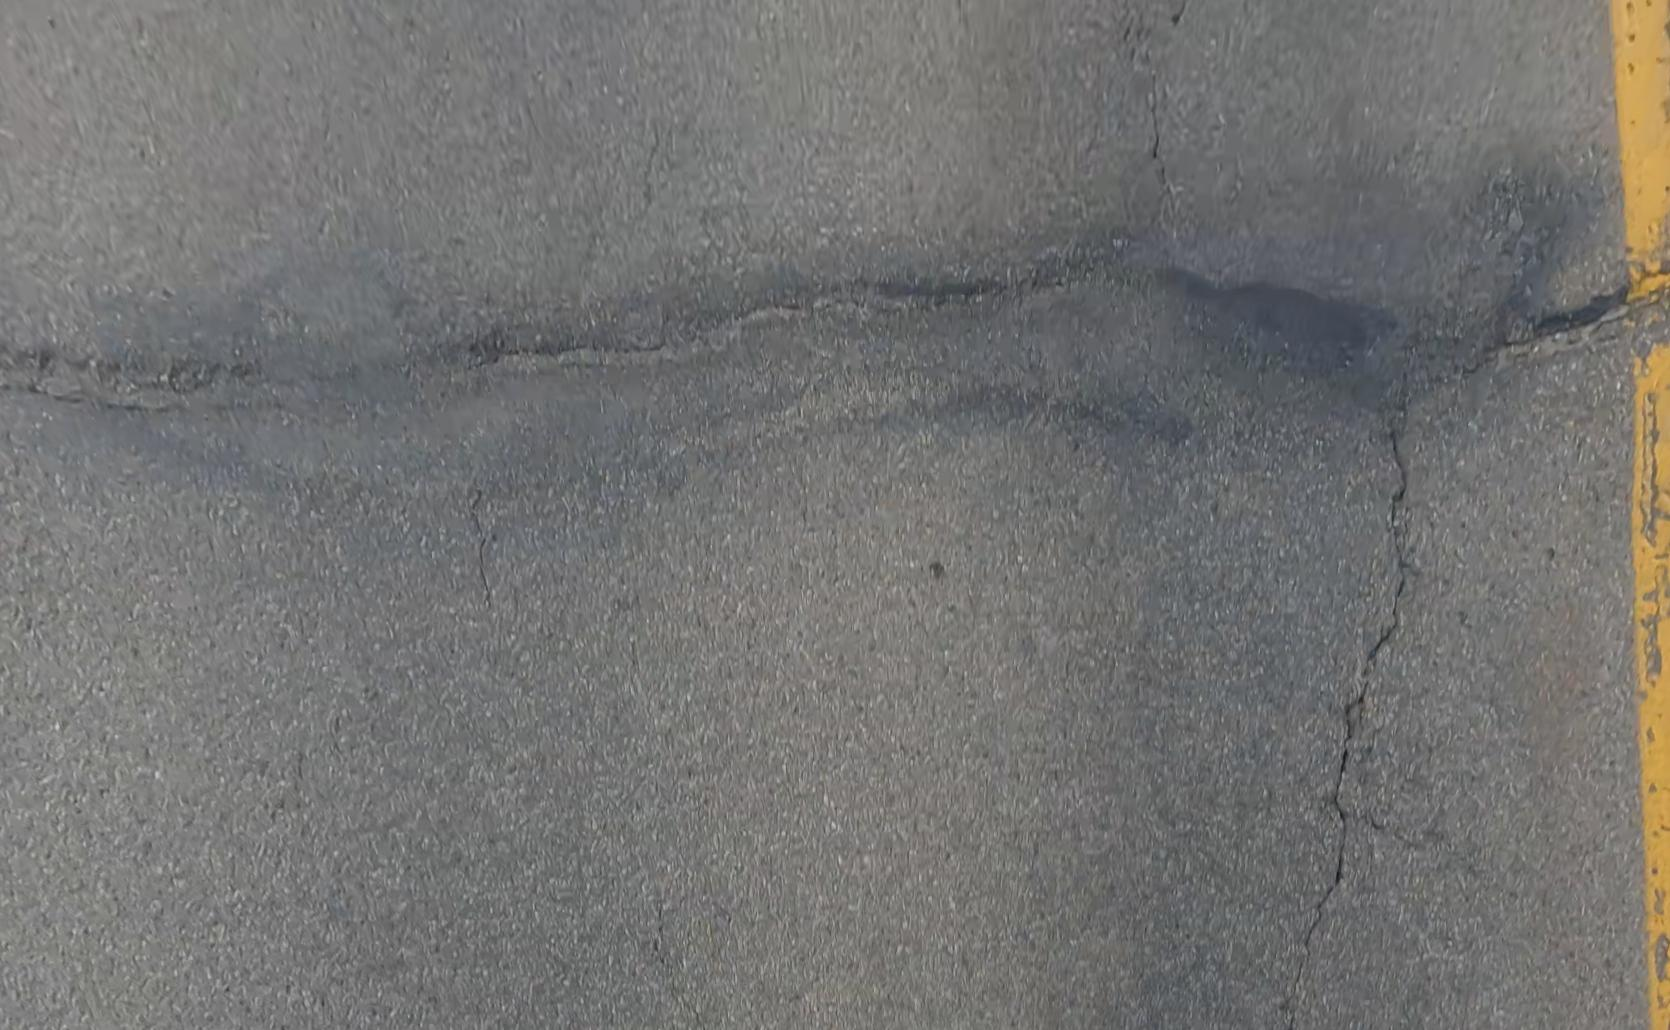pothole_patch_poor: (0, 159, 1670, 514)
